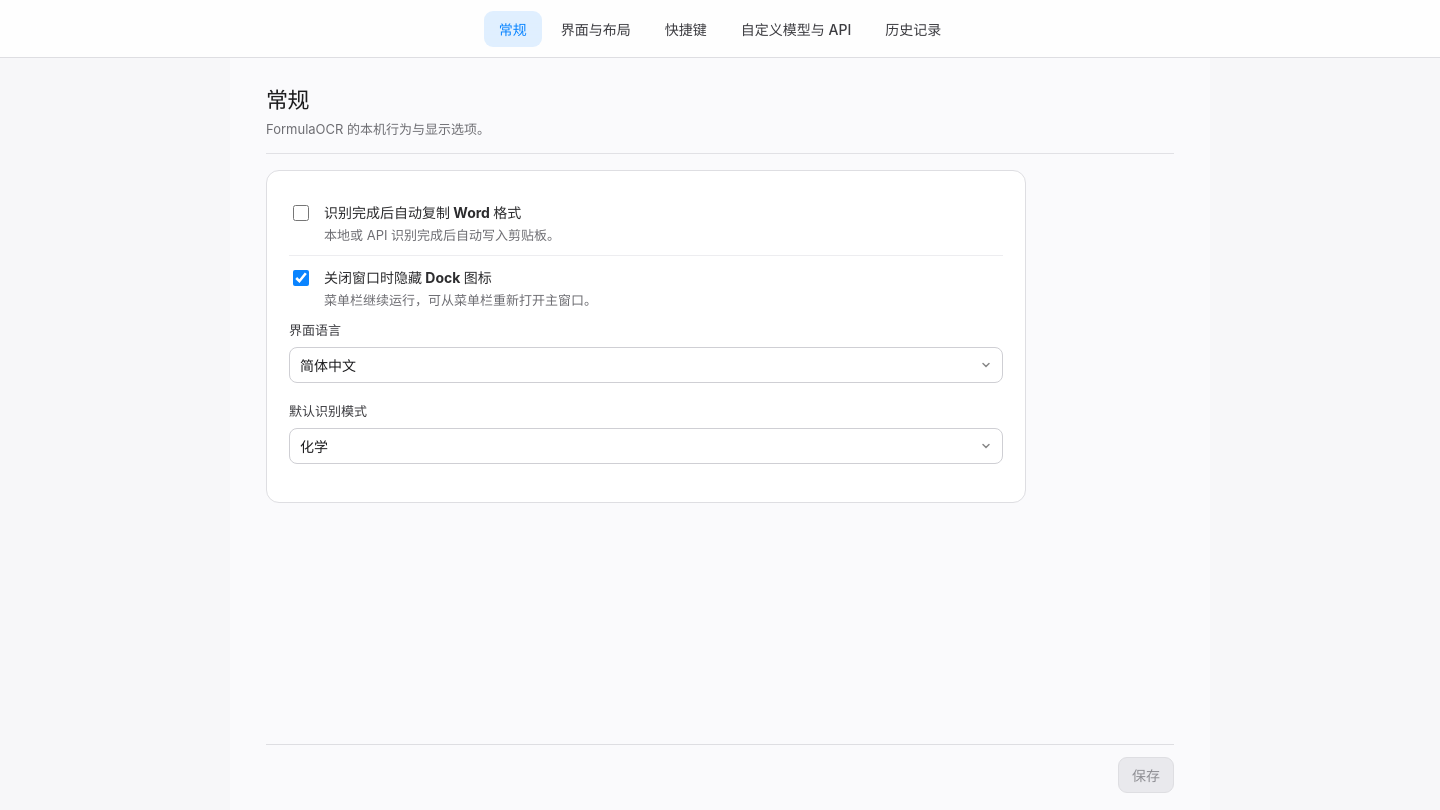
Test: settings interaction › saves only the current page and keeps other page drafts
This screenshot has width=1440, height=810.
Expected: the element that starts with "识别完成后自动复制 Word 格式" is enabled, [266,170,1026,503]
Step 1. Click the checkbox labelled "识别完成后自动复制 Word 格式 本地或 API 识别完成后自动写入剪贴板。" → {"x": 301, "y": 213}, box [293,205,309,221]
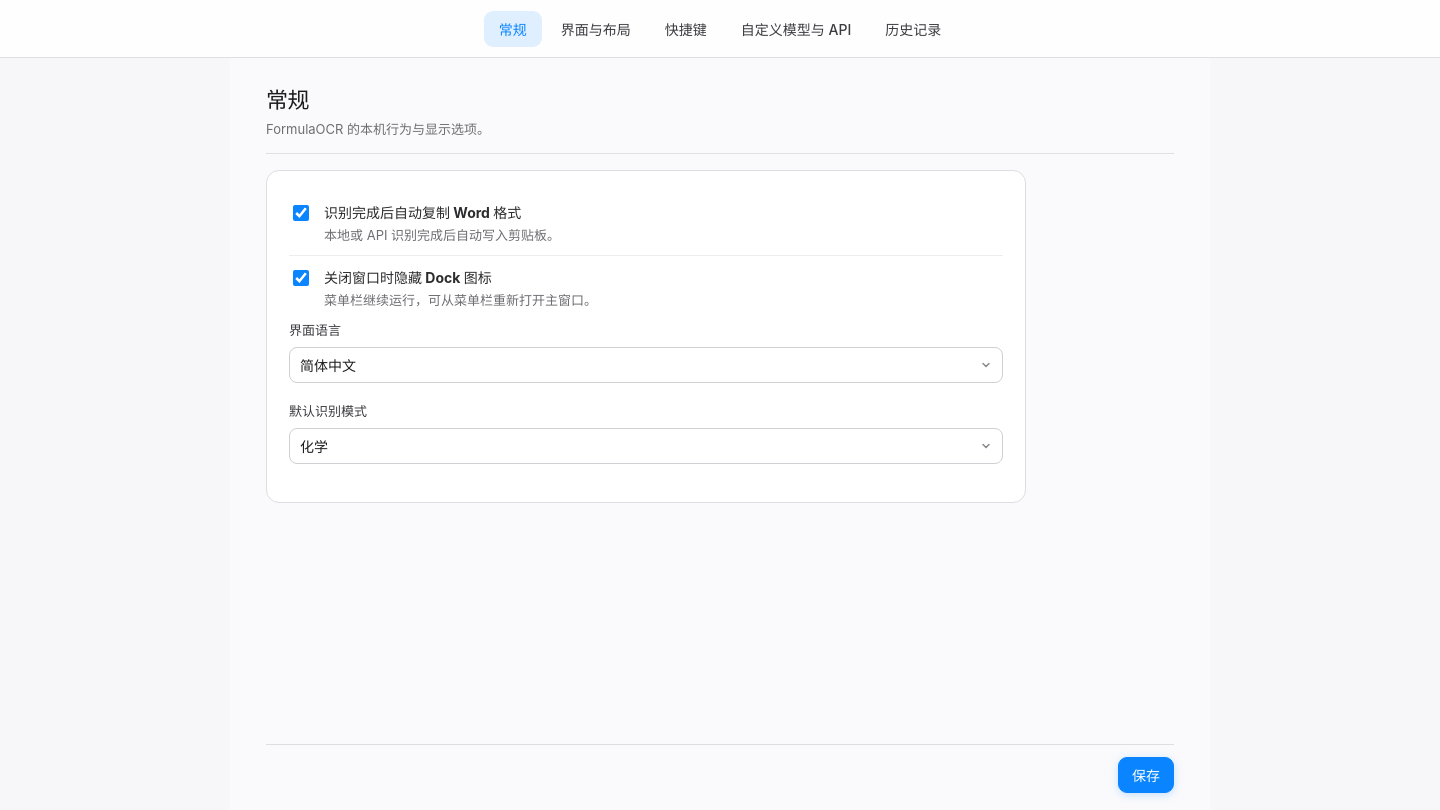
Step 2. Click the button "历史记录" → {"x": 913, "y": 28}, box [870,10,956,46]
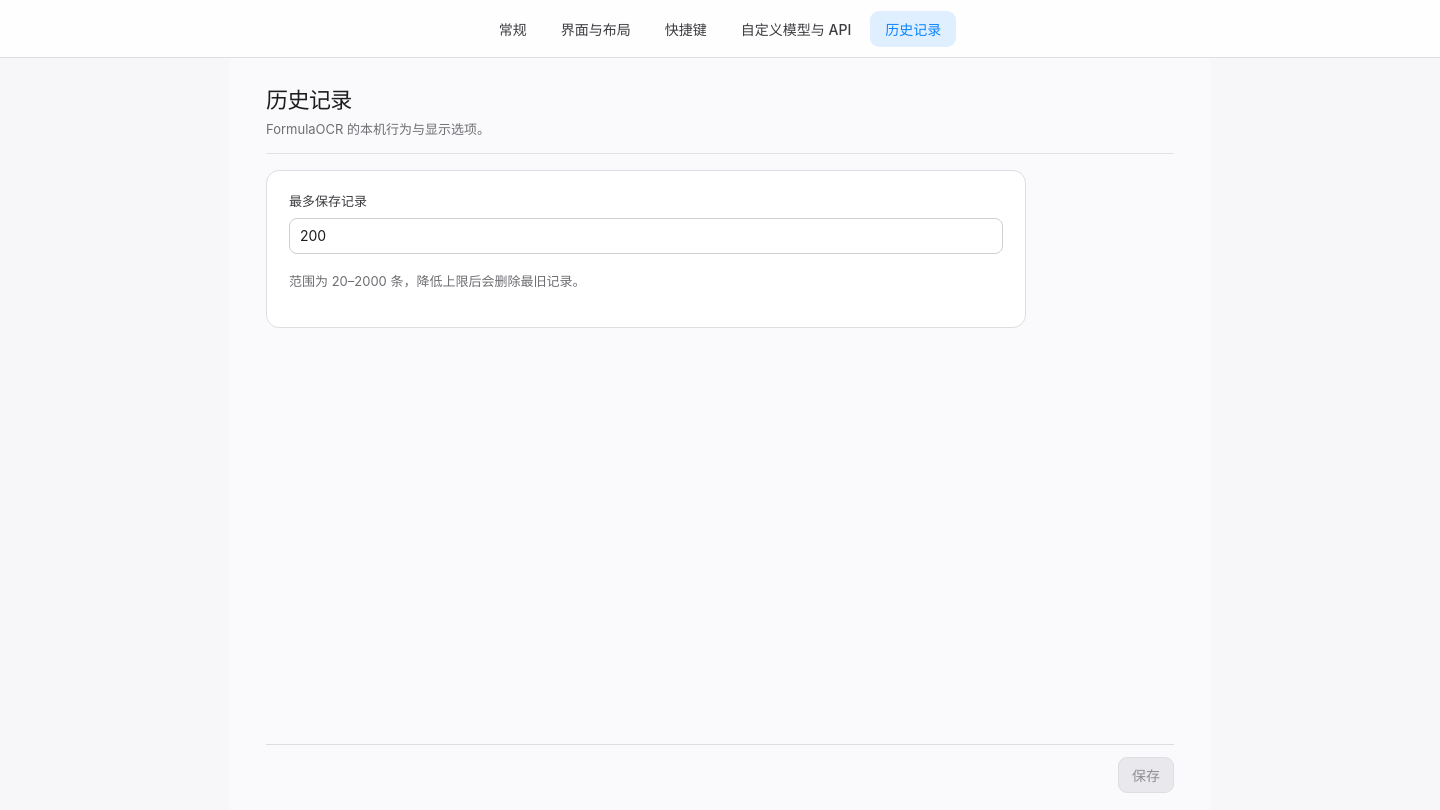
Step 3. Replace the text in the number field labelled "最多保存记录" with "300" → {"x": 646, "y": 236}, box [289,218,1003,254]
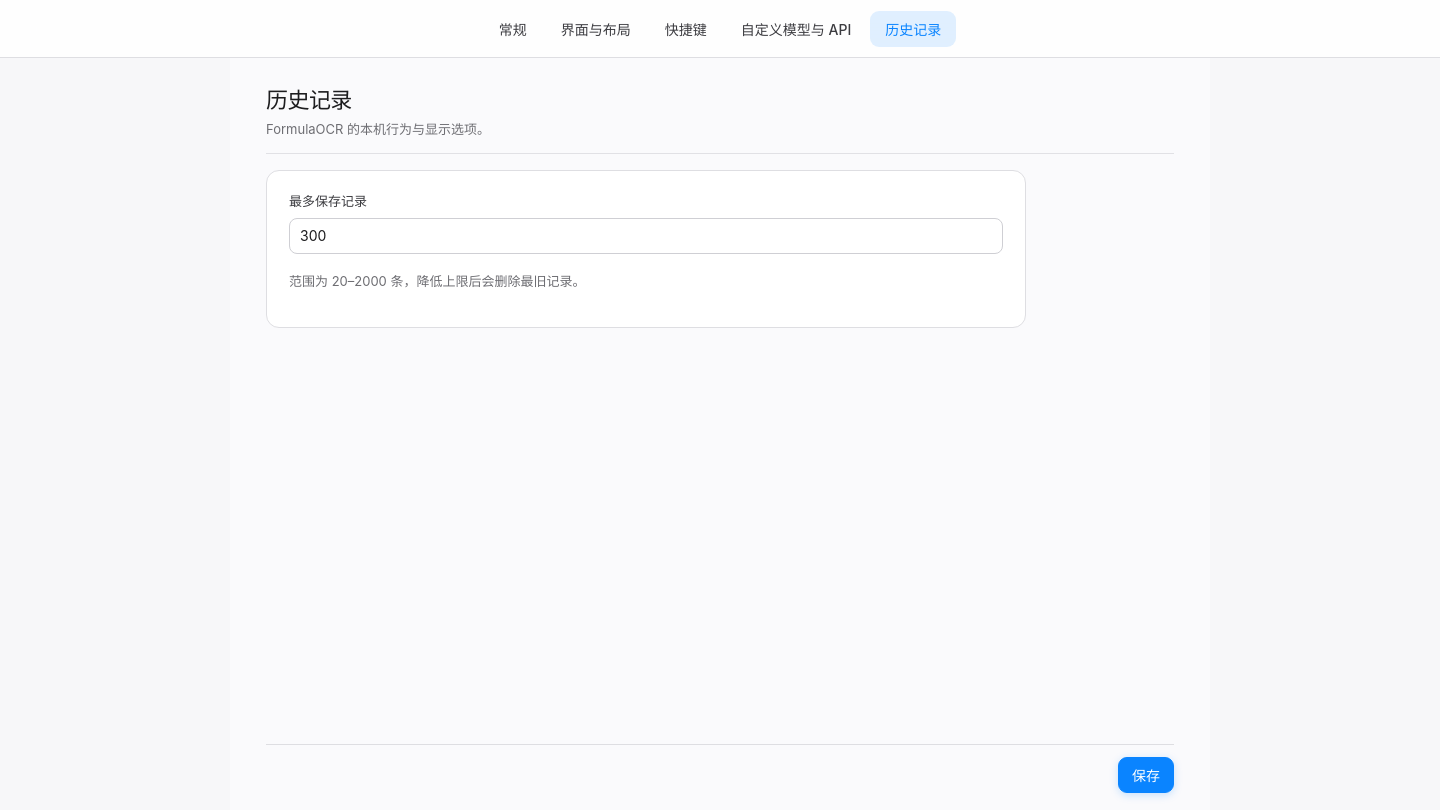
Step 4. Click the button "保存" → {"x": 1146, "y": 774}, box [1118,756,1174,792]
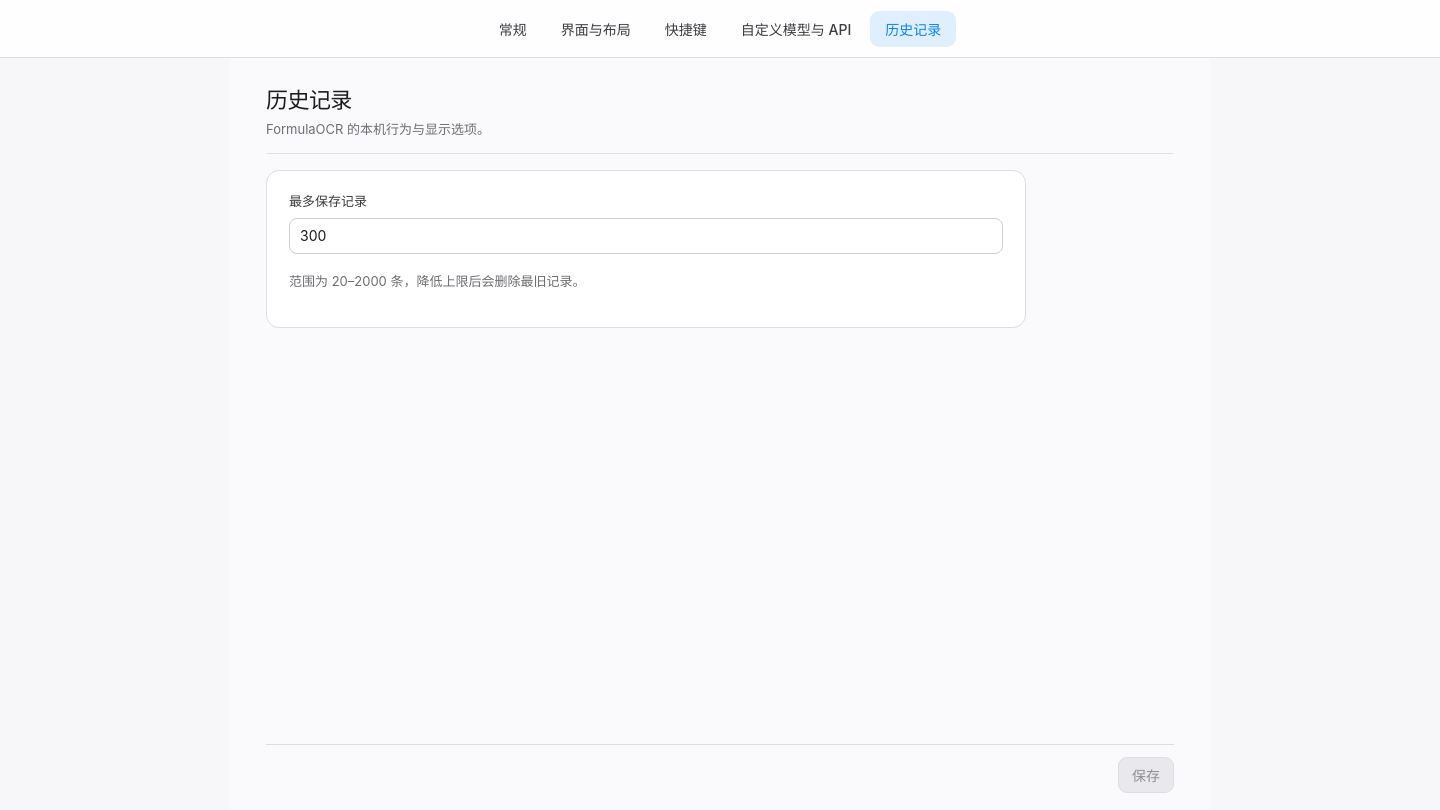
Now the button "保存" is disabled, box [1118,756,1174,792]
Step 5. Click the button "常规" → {"x": 513, "y": 28}, box [484,10,542,46]
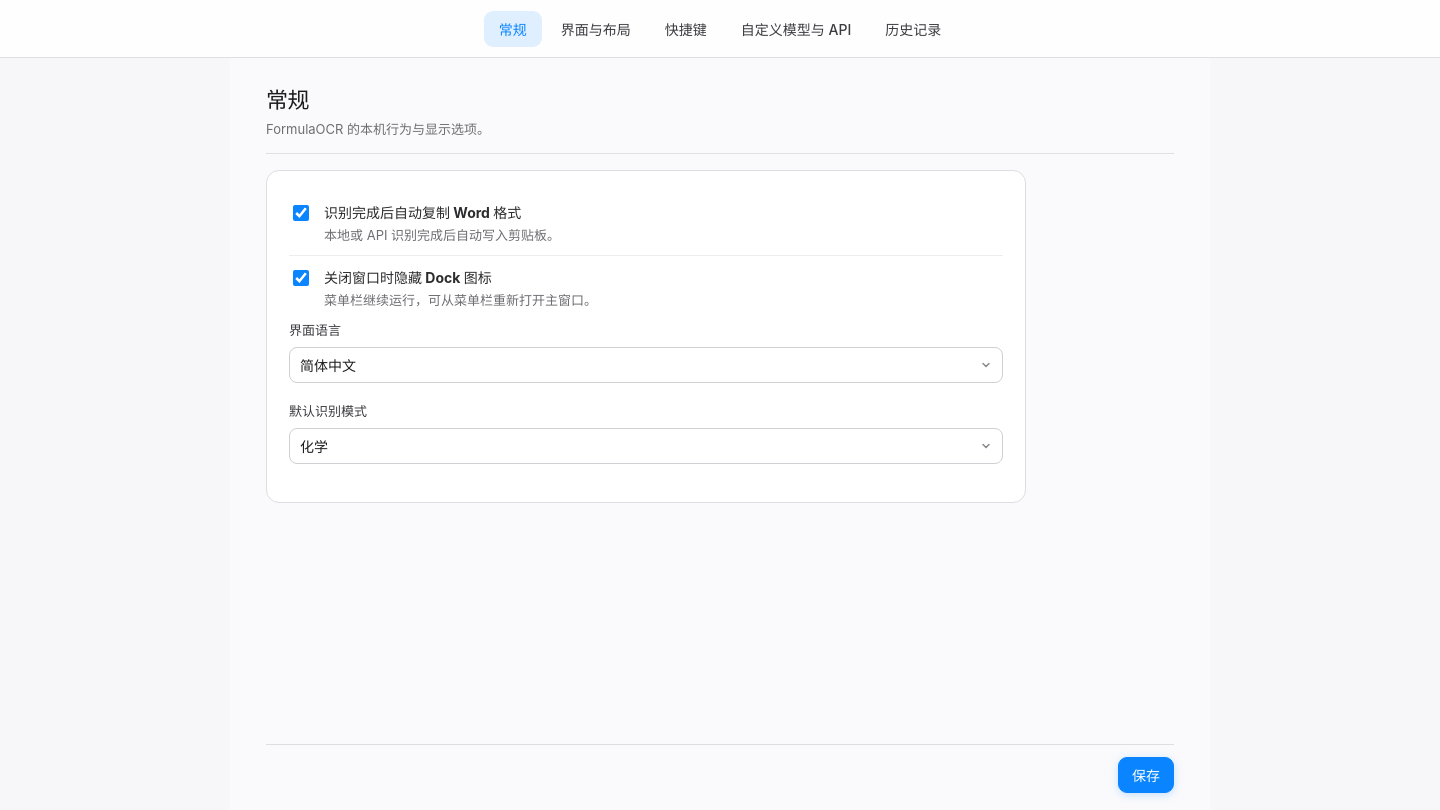
Now the button "保存" is enabled, box [1118,756,1174,792]
